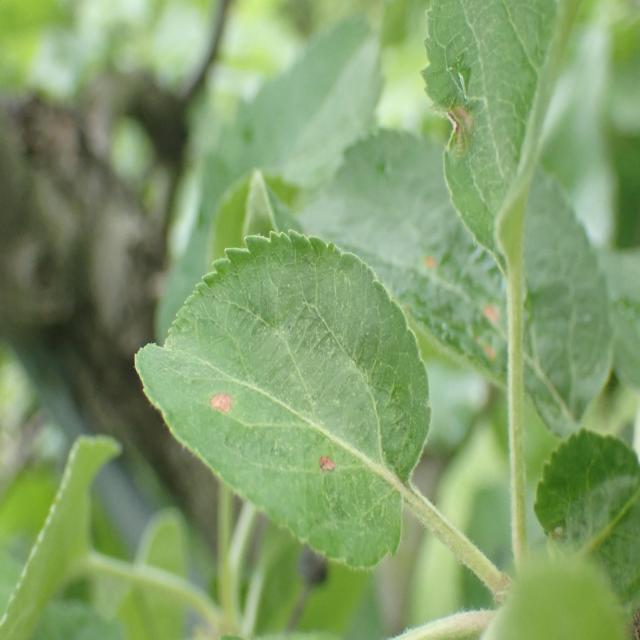Black Rot: (306, 432, 341, 491), (201, 378, 235, 424)
